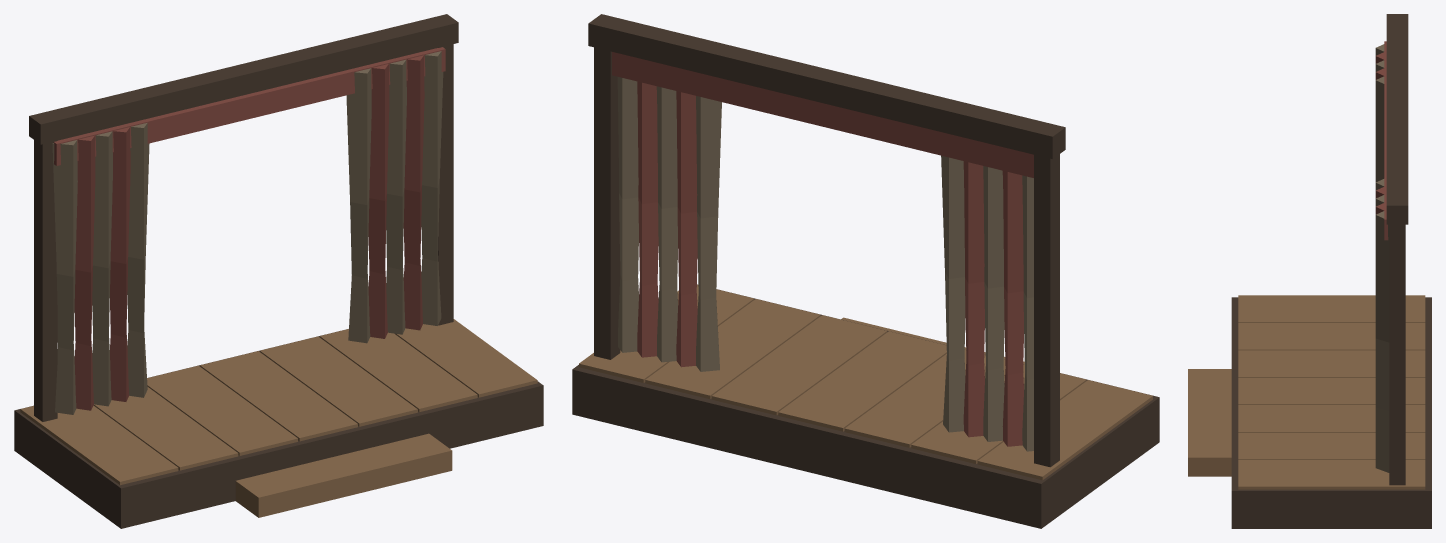
The model's file is 05_Performance_Stage.fbx.
3 renders of one model, left to right at view 1: azimuth 30°, elevation 25°; view 2: azimuth 150°, elevation 25°; view 3: azimuth 270°, elevation 25°, orthographic. The views are drawn at different scales.
Visible parts, largest first — view 1: Structure.003; view 2: Structure.003; view 3: Structure.003.
Boxes of the visible parts, x1,y1,x2,y2 form: Structure.003: (14,14,543,528); Structure.003: (572,14,1159,528); Structure.003: (1188,14,1431,528).
Bounding box in the file's own units: 480 × 373 × 255.
